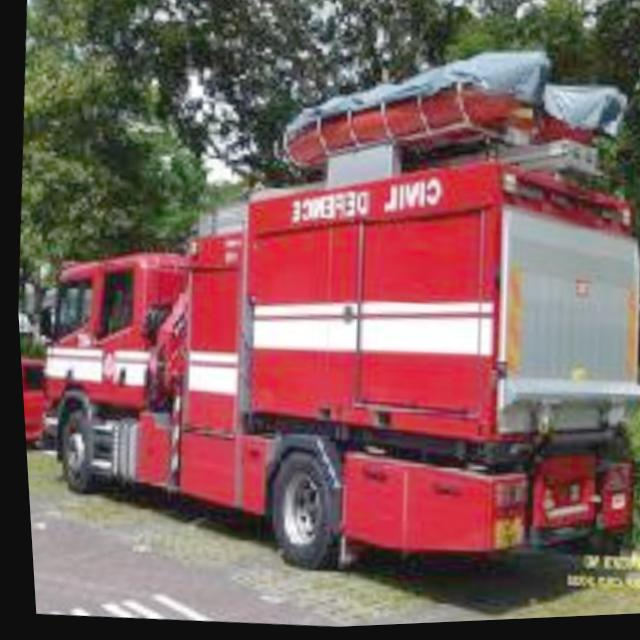emergency: (3, 45, 640, 582)
